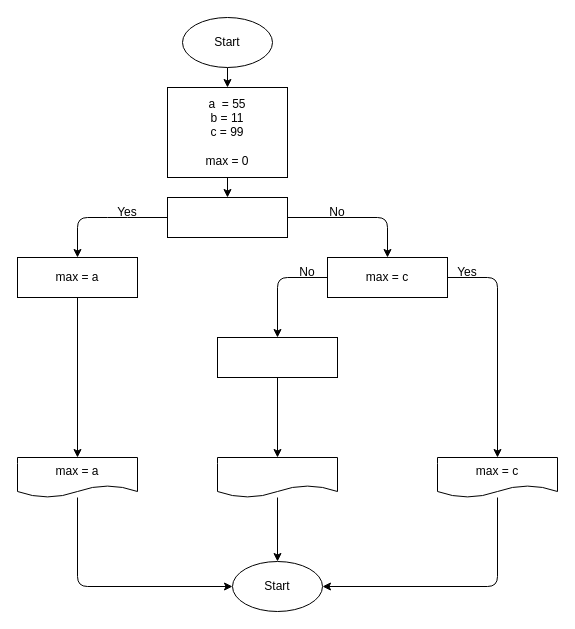
This 575x629 diagram has some shape labels left out. The shapes that lost their labels are listed below. From the top down, each one's centre as x and y in pixels, then its label:
point 227,217: (a > b) (a > c)
point 277,357: (b > c)
point 277,477: max = b
